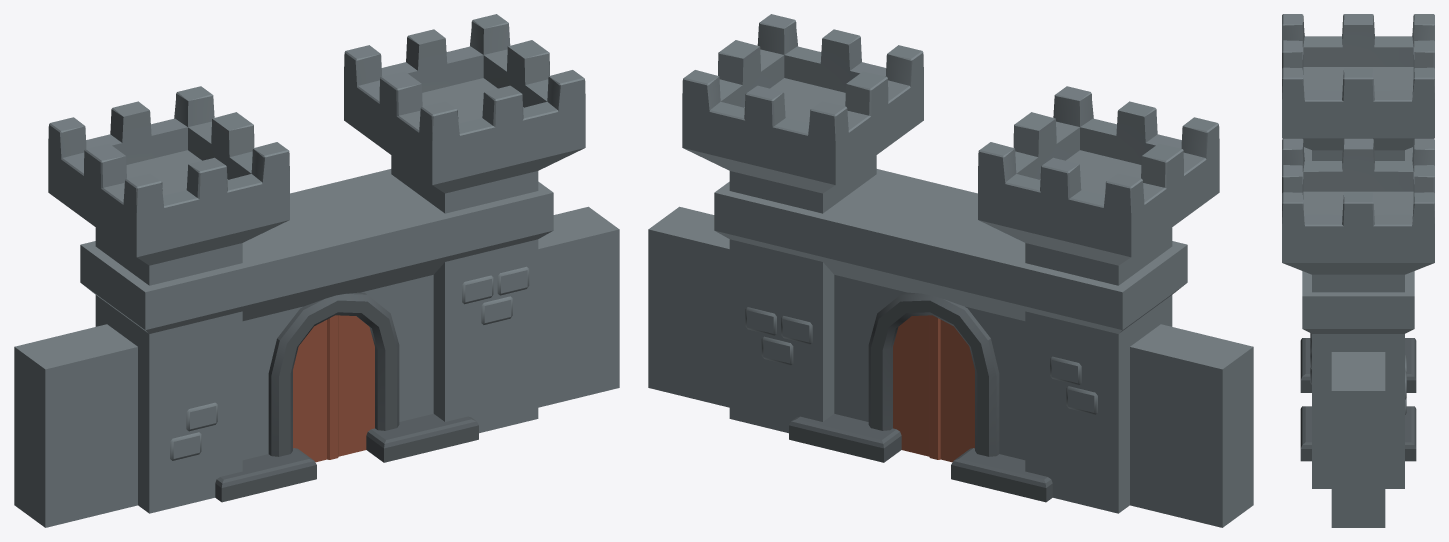
Rendered from wall_gate_closed.glb.
3 views of the same model, side by side, from view 1: azimuth 30°, elevation 25°; view 2: azimuth 150°, elevation 25°; view 3: azimuth 270°, elevation 25° (orthographic). The views are drawn at different scales.
Parts seen in each view (by area): view 1: wall_gate_closed; view 2: wall_gate_closed; view 3: wall_gate_closed.
Part boxes in pixels (<box>): wall_gate_closed: <box>14,14,619,527</box>; wall_gate_closed: <box>648,14,1253,527</box>; wall_gate_closed: <box>1282,14,1434,527</box>.
Size of the model in its own units: 2 by 1.15 by 0.5343.
